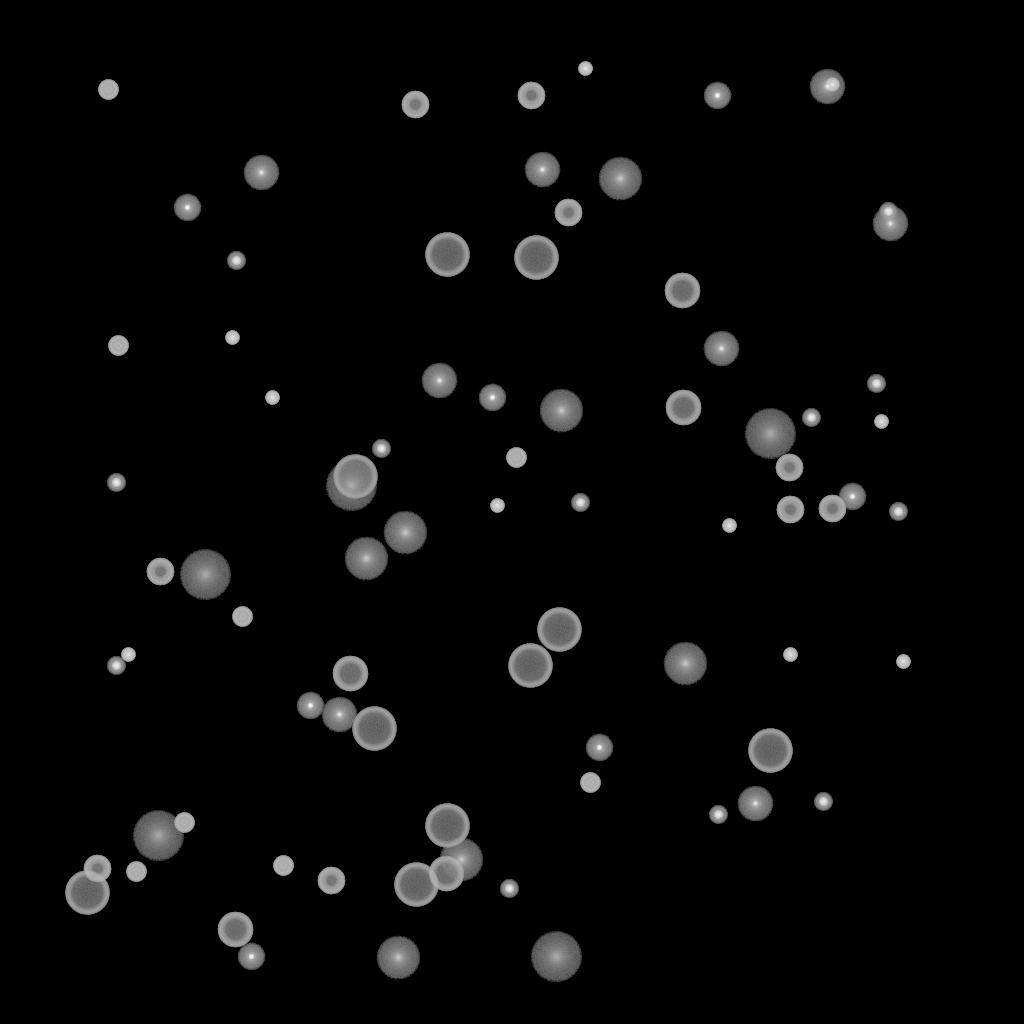depth:-10: (585, 734, 613, 762), (237, 943, 265, 971), (478, 384, 506, 412), (838, 483, 866, 511), (296, 692, 324, 720), (703, 82, 731, 110), (173, 194, 201, 222)
depth:-20: (889, 503, 907, 521), (571, 494, 589, 512), (867, 375, 885, 393), (709, 806, 727, 824), (227, 252, 245, 270), (802, 409, 820, 427), (500, 880, 518, 898), (107, 657, 125, 675), (372, 440, 390, 458), (107, 474, 125, 492), (814, 793, 832, 811), (879, 203, 897, 221)
depth:-30: (896, 655, 910, 669), (783, 648, 797, 662), (825, 78, 839, 92), (121, 648, 135, 662), (490, 499, 504, 513), (722, 519, 736, 533), (578, 62, 592, 76), (874, 415, 888, 429), (225, 331, 239, 345), (265, 391, 279, 405)
depth:-40: (108, 336, 128, 356), (174, 813, 194, 833), (126, 862, 146, 882), (98, 80, 118, 100), (506, 448, 526, 468), (273, 856, 293, 876), (580, 773, 600, 793), (232, 607, 252, 627)
depth:-50: (818, 495, 846, 523), (554, 199, 582, 227), (401, 91, 429, 119), (83, 855, 111, 883), (146, 558, 174, 586), (776, 496, 804, 524), (317, 867, 345, 895), (775, 454, 803, 482), (517, 82, 545, 110)
depth:-60: (332, 656, 368, 692), (217, 912, 253, 948), (664, 273, 700, 309), (665, 390, 701, 426), (428, 856, 464, 892)
depth:-70: (65, 871, 109, 915), (394, 863, 438, 907), (514, 236, 558, 280), (352, 707, 396, 751), (425, 804, 469, 848), (425, 233, 469, 277), (333, 455, 377, 499), (508, 644, 552, 688), (537, 608, 581, 652), (748, 729, 792, 773)
depth:0: (809, 69, 845, 105), (703, 331, 739, 367), (421, 363, 457, 399), (524, 152, 560, 188), (872, 206, 908, 242), (737, 786, 773, 822), (243, 155, 279, 191), (321, 697, 357, 733)
depth:10: (663, 642, 707, 686), (598, 157, 642, 201), (376, 936, 420, 980), (439, 838, 483, 882), (383, 511, 427, 555), (344, 537, 388, 581), (539, 389, 583, 433)
depth:20: (744, 409, 796, 459), (179, 550, 231, 600), (132, 811, 184, 861), (325, 461, 377, 511), (530, 932, 582, 982)
